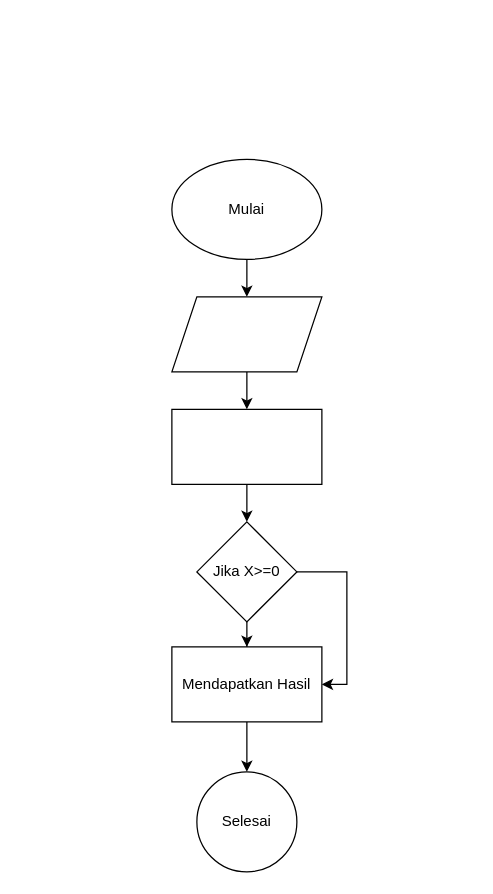
Some shapes in this 493 by 894 pixel diagram are drawn without their labels. The centre of each missing label's shape, as x and y in pixels:
Masukkan Teks: point 246,334
Teks - length - 1: point 246,446
